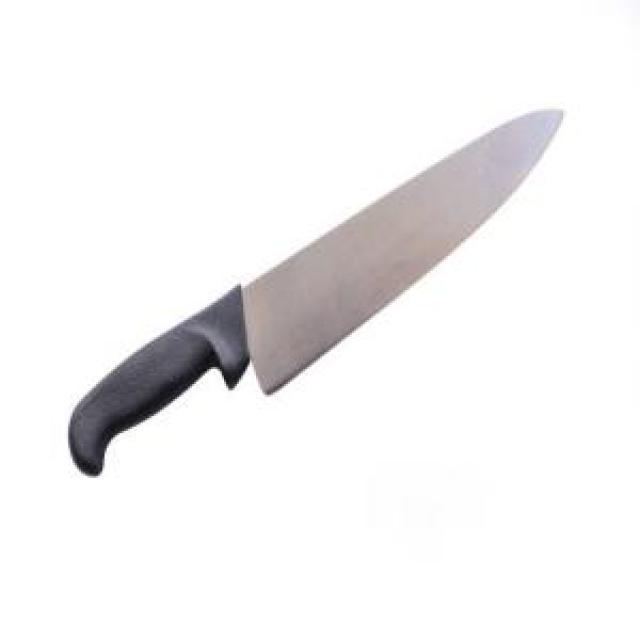knife: (66, 98, 565, 491)
